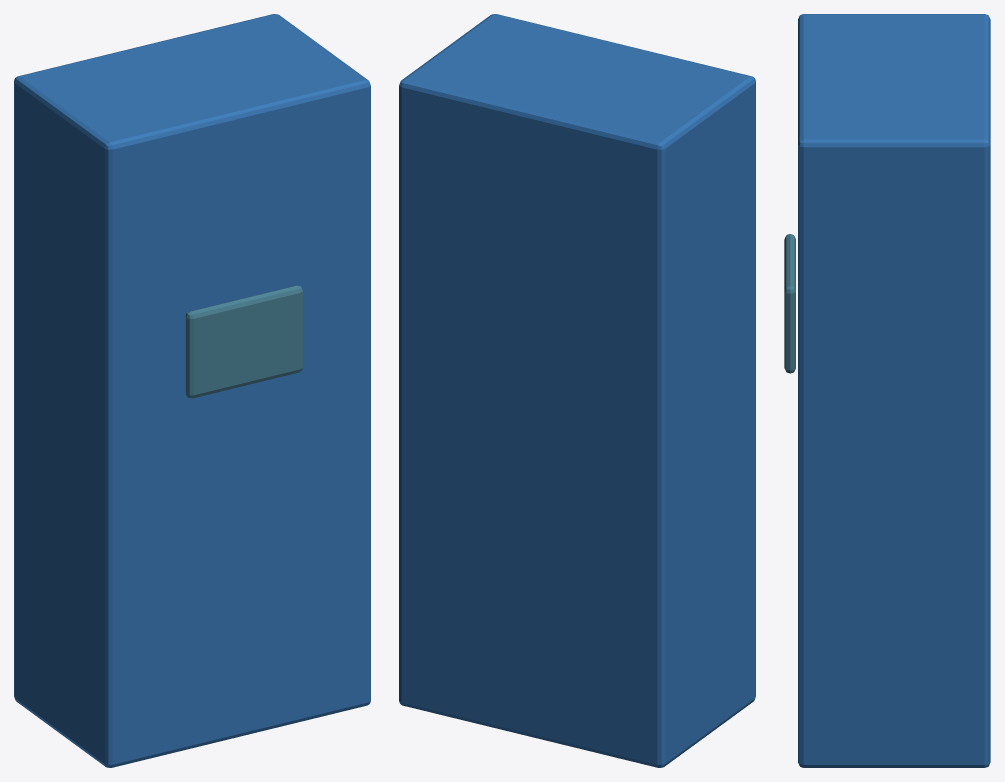
Rendered from Prop_Street_040.glb.
3 renders of one model, left to right at view 1: azimuth 30°, elevation 25°; view 2: azimuth 150°, elevation 25°; view 3: azimuth 270°, elevation 25°, orthographic.
Visible parts, largest first — view 1: Prop_Street_040; view 2: Prop_Street_040; view 3: Prop_Street_040.
Part boxes in pixels (left/top/right/bottom): Prop_Street_040: left=14, top=14, right=370, bottom=767; Prop_Street_040: left=399, top=14, right=755, bottom=767; Prop_Street_040: left=784, top=14, right=990, bottom=767.
Size of the model in its own units: 0.8 by 1.8 by 0.535.
